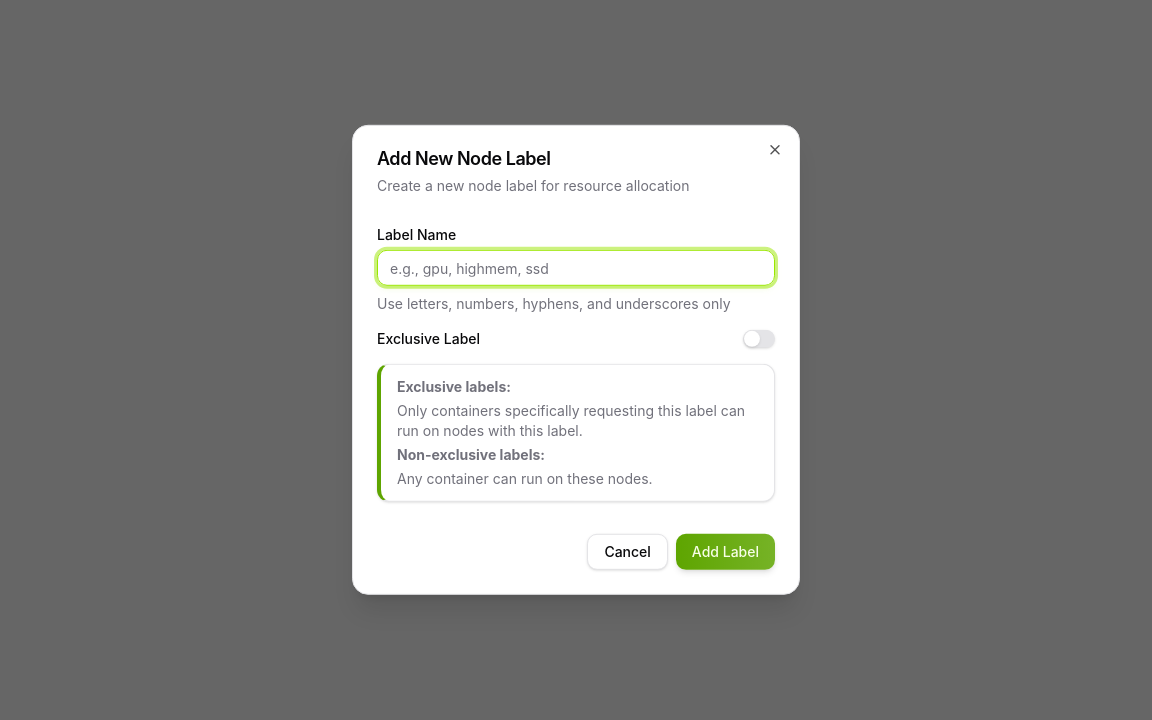
Scenario: AddLabelDialog › Validation › should validate label name on confirm
Type "gpu" into the field with placeholder "e.g., gpu, highmem, ssd" at (576,268), box [377,250,775,286]
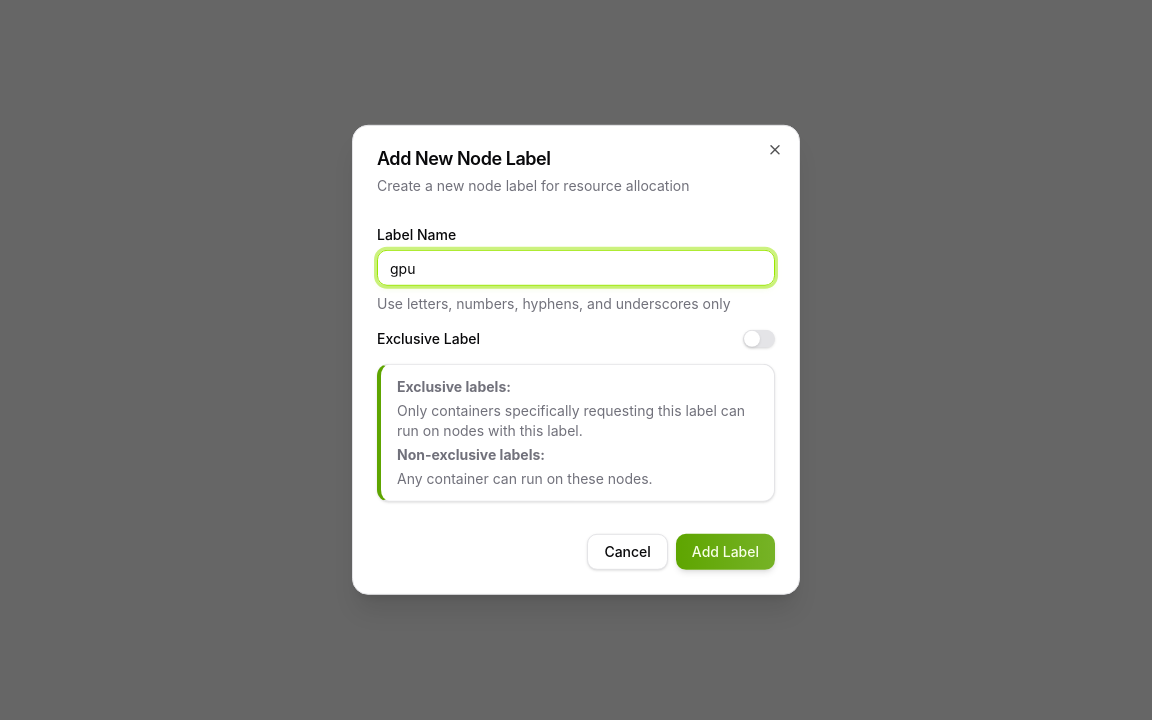
Click the button "Add Label" at (725,552), box [676,534,775,570]
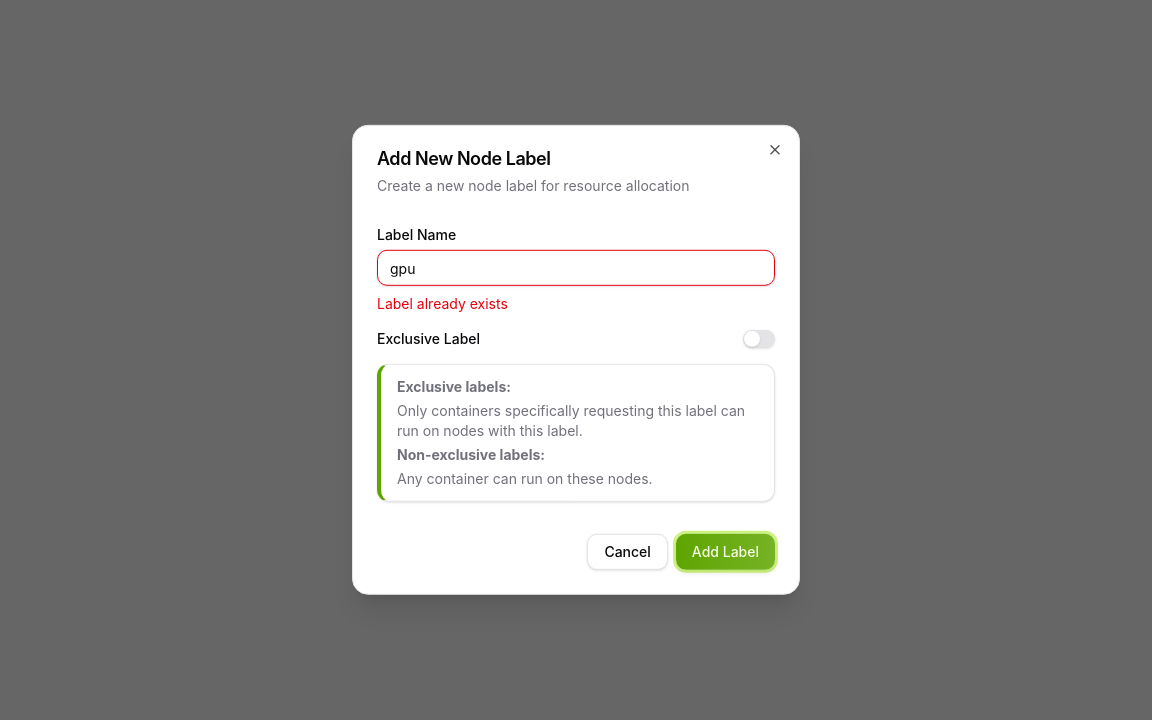
Expected: the text "Label already exists" is shown, [377,295,508,312]
